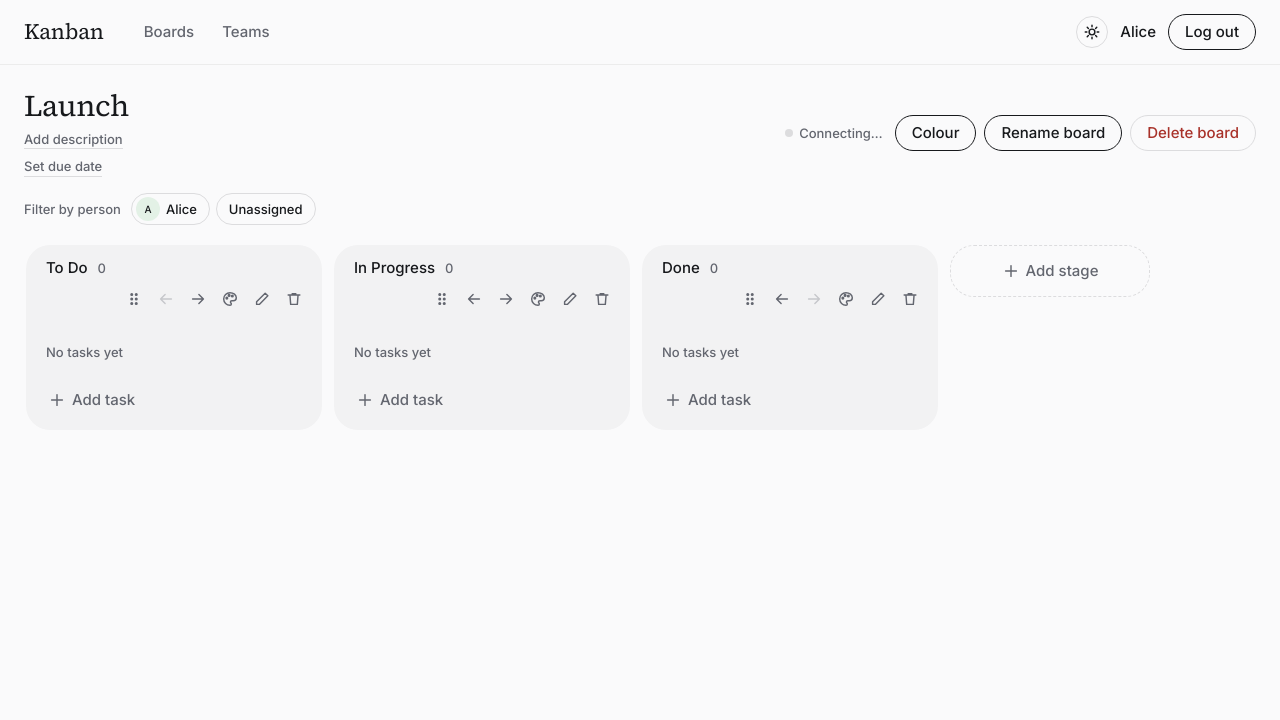
Test: board description › shows why saving failed and keeps the text
The width and height of the screenshot is (1280, 720).
Click the button "Add description" at (73,139), box [24,130,123,149]
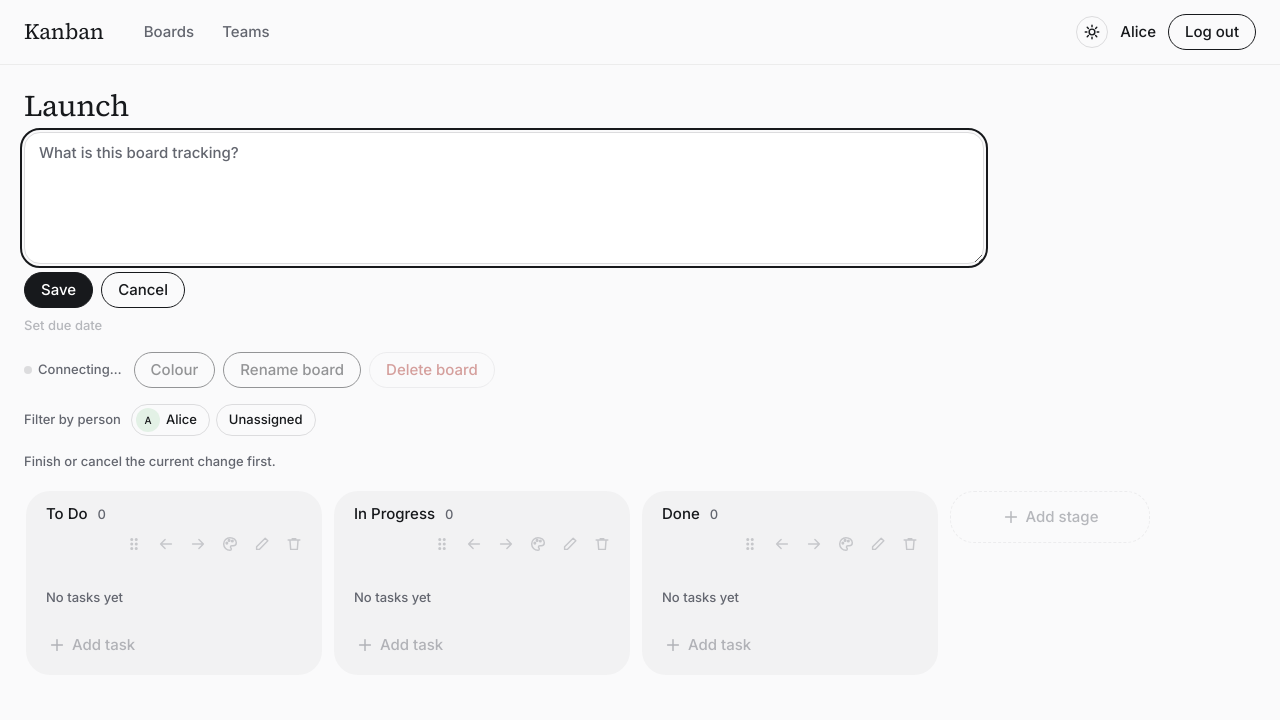
Type "Draft" into the text box named "Board description" at (504,198), box [24,132,984,264]
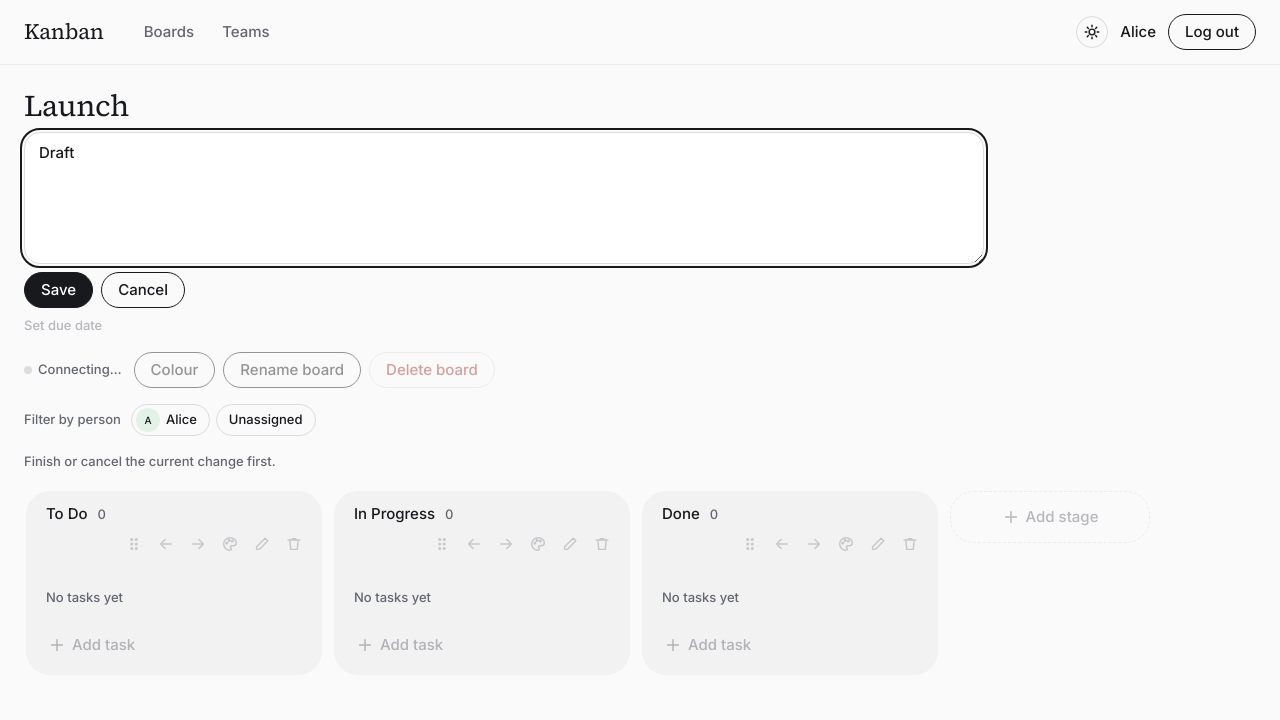
Click the button "Save" at (59,290), box [24,272,93,308]
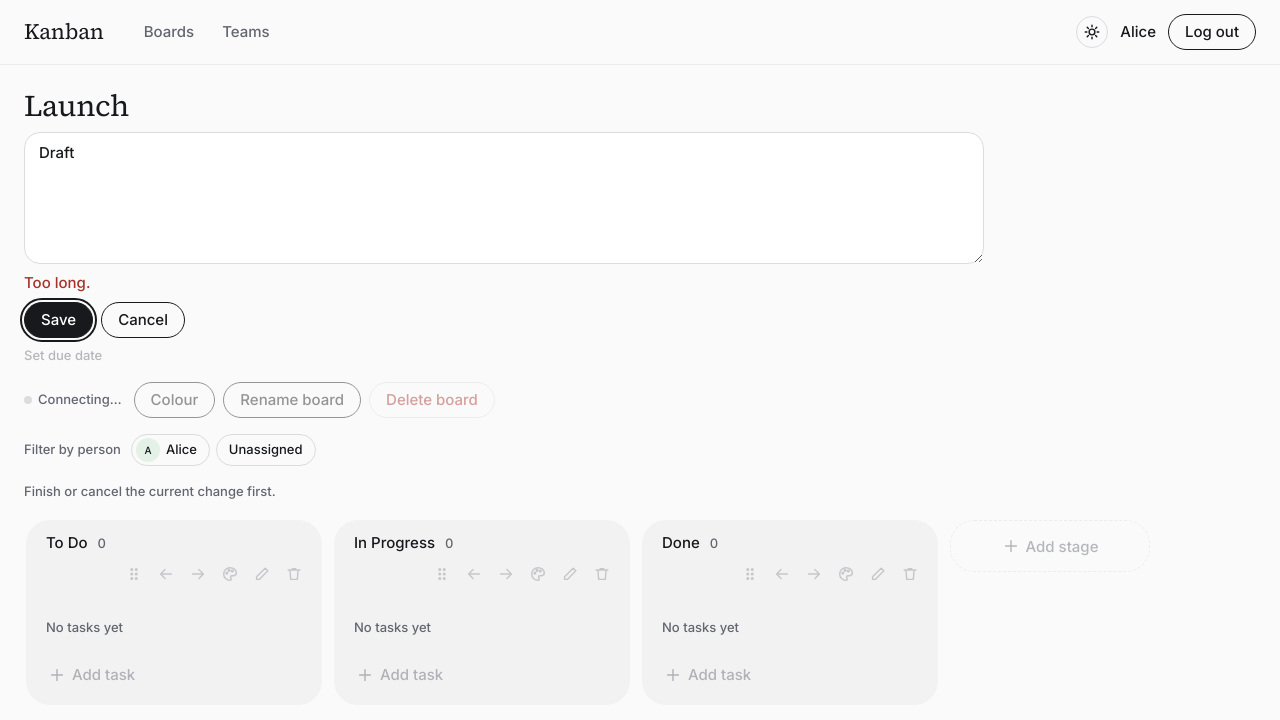
Result: the message "Too long." is shown at [24,273,90,292]
